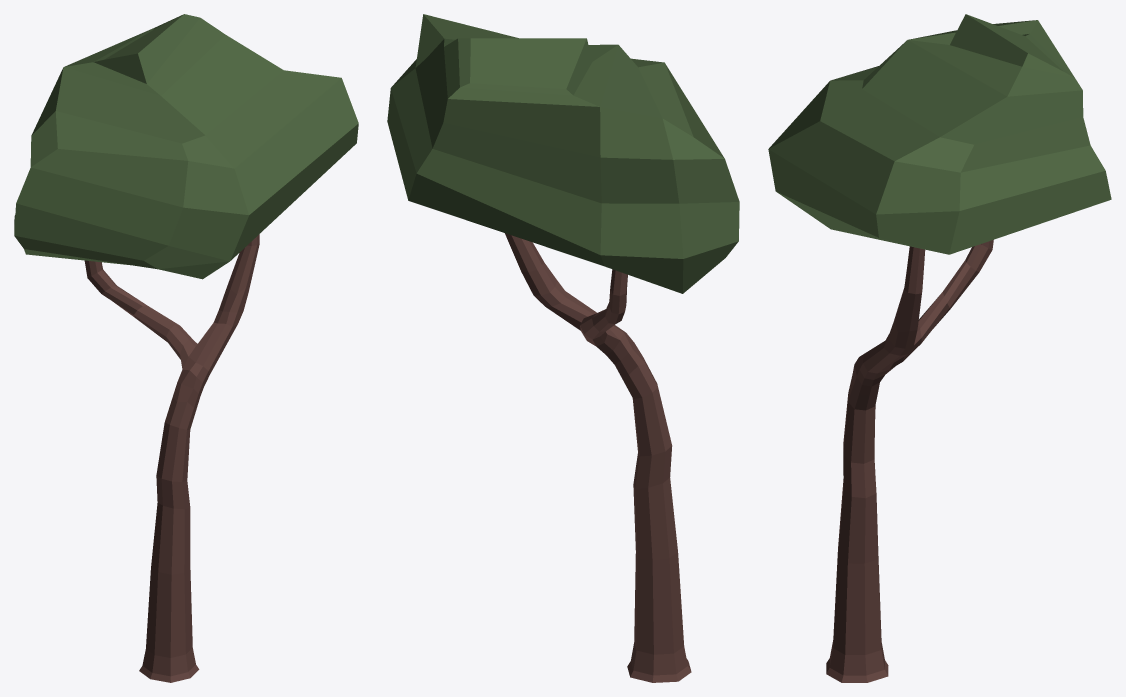
Rendered from Apple_3.glb.
3 views of the same model, side by side, from view 1: azimuth 30°, elevation 25°; view 2: azimuth 150°, elevation 25°; view 3: azimuth 270°, elevation 25° (orthographic). The views are drawn at different scales.
Visible parts, largest first — view 1: Apple_3; view 2: Apple_3; view 3: Apple_3.
Boxes of the visible parts, bbox=[...] form: Apple_3: bbox=[14, 14, 358, 682]; Apple_3: bbox=[387, 14, 739, 682]; Apple_3: bbox=[768, 14, 1111, 682].
Bounding box in the file's own units: 1.17 × 2.09 × 0.974.
